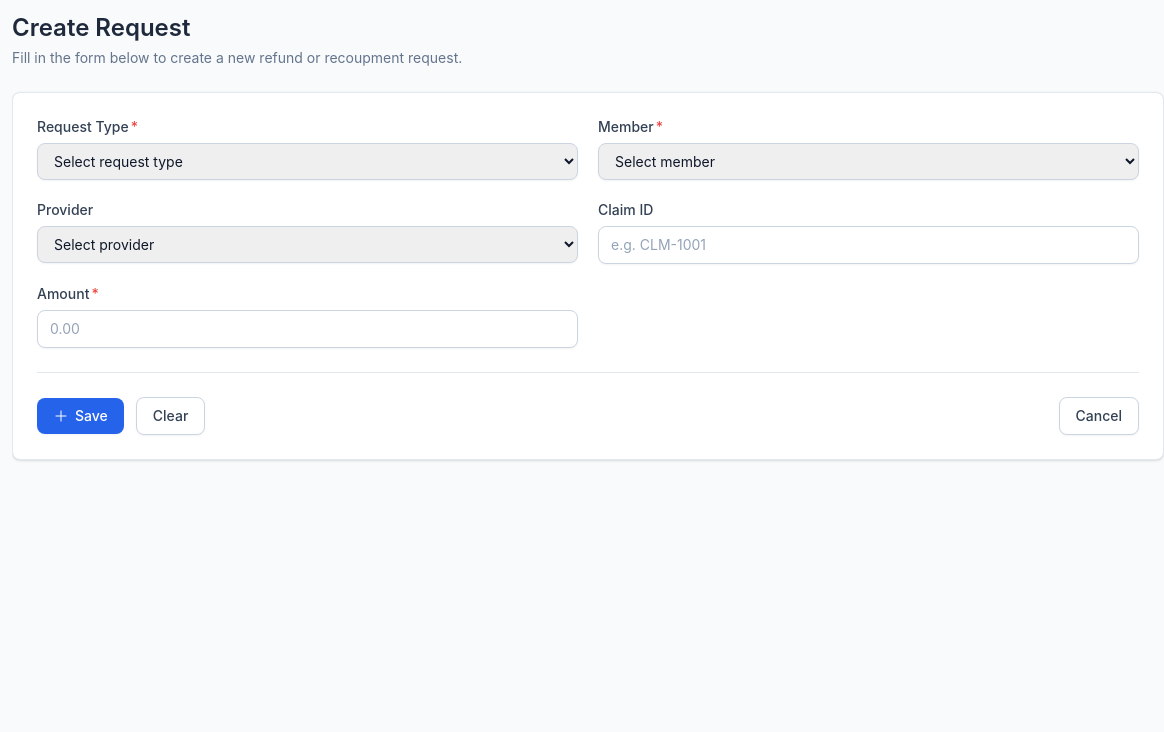
CreateEditRequest › create mode - field validation › shows validation error when member is not selected
Step 1. Select "Refund" in the dropdown labelled "Request Type*" → (308, 162), box [37,143,578,180]
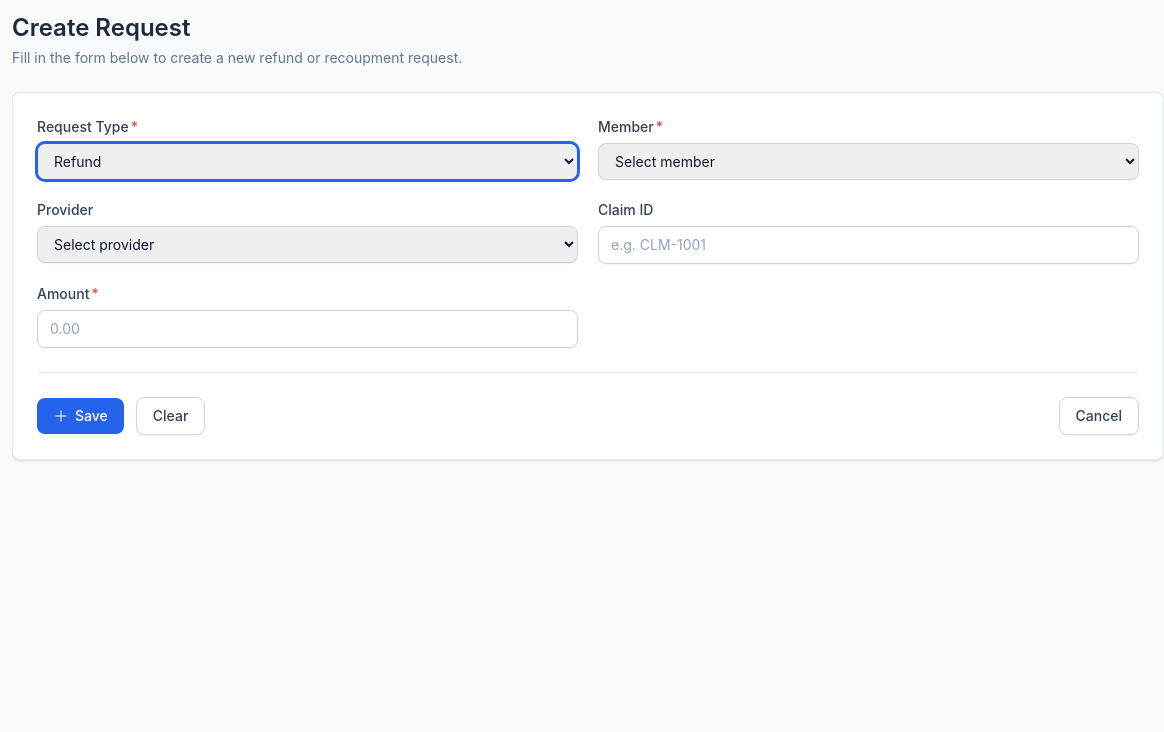
Step 2. Type "100" into the number field labelled "Amount*" → (308, 329), box [37,310,578,348]
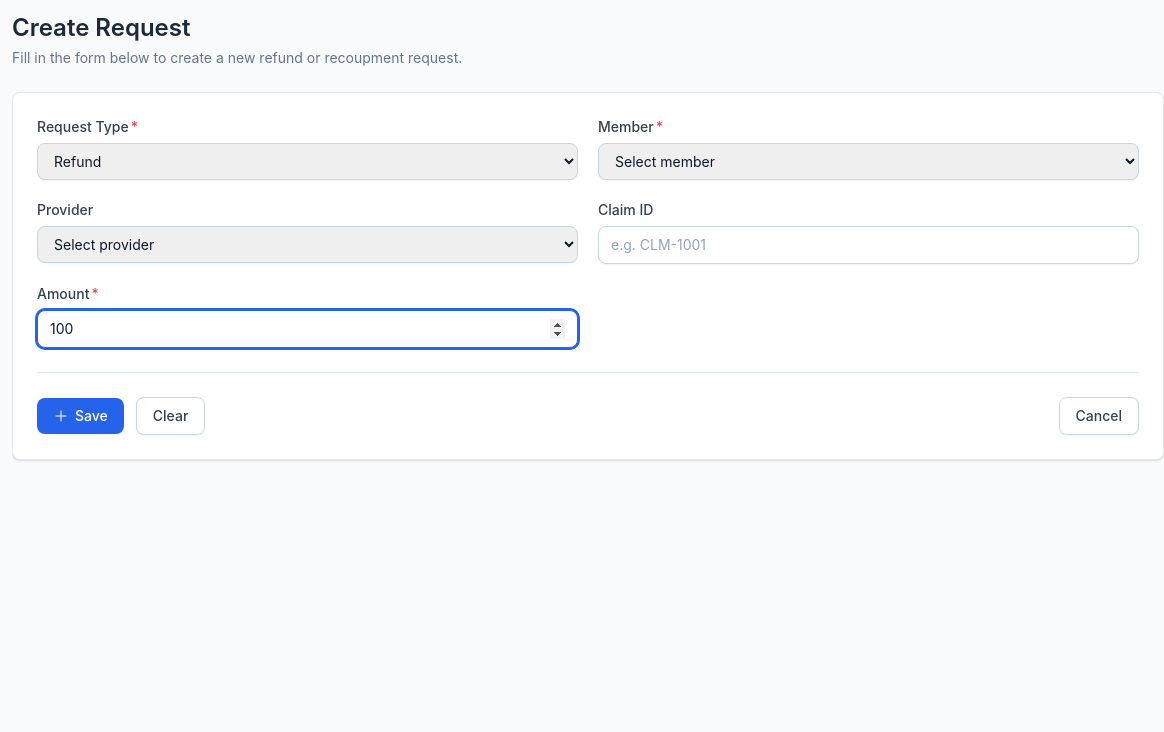
Step 3. Click the button "Save" → (80, 416), box [37,398,124,434]
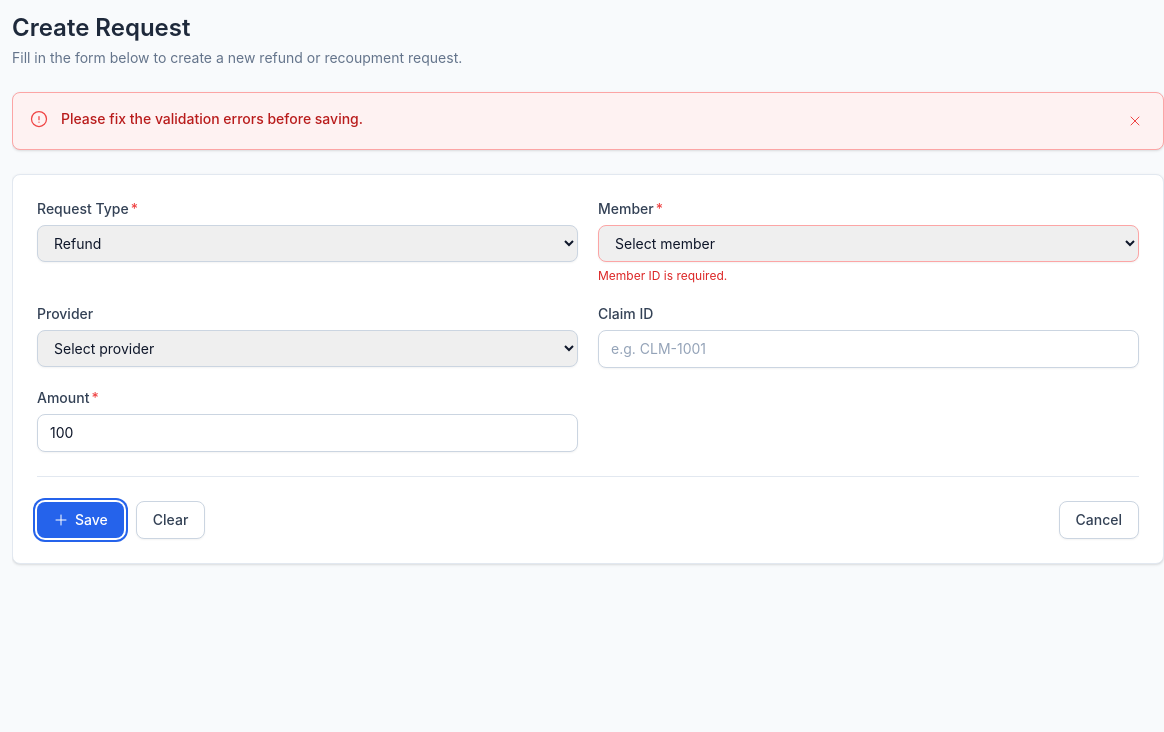
Expected: the text "Member ID is required." is shown, [598,268,727,283]
